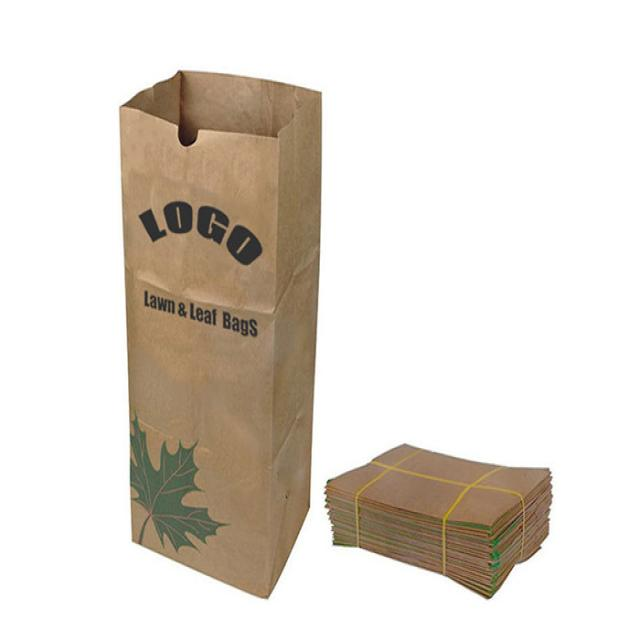Kertas: (57, 38, 327, 640), (326, 420, 588, 592)
